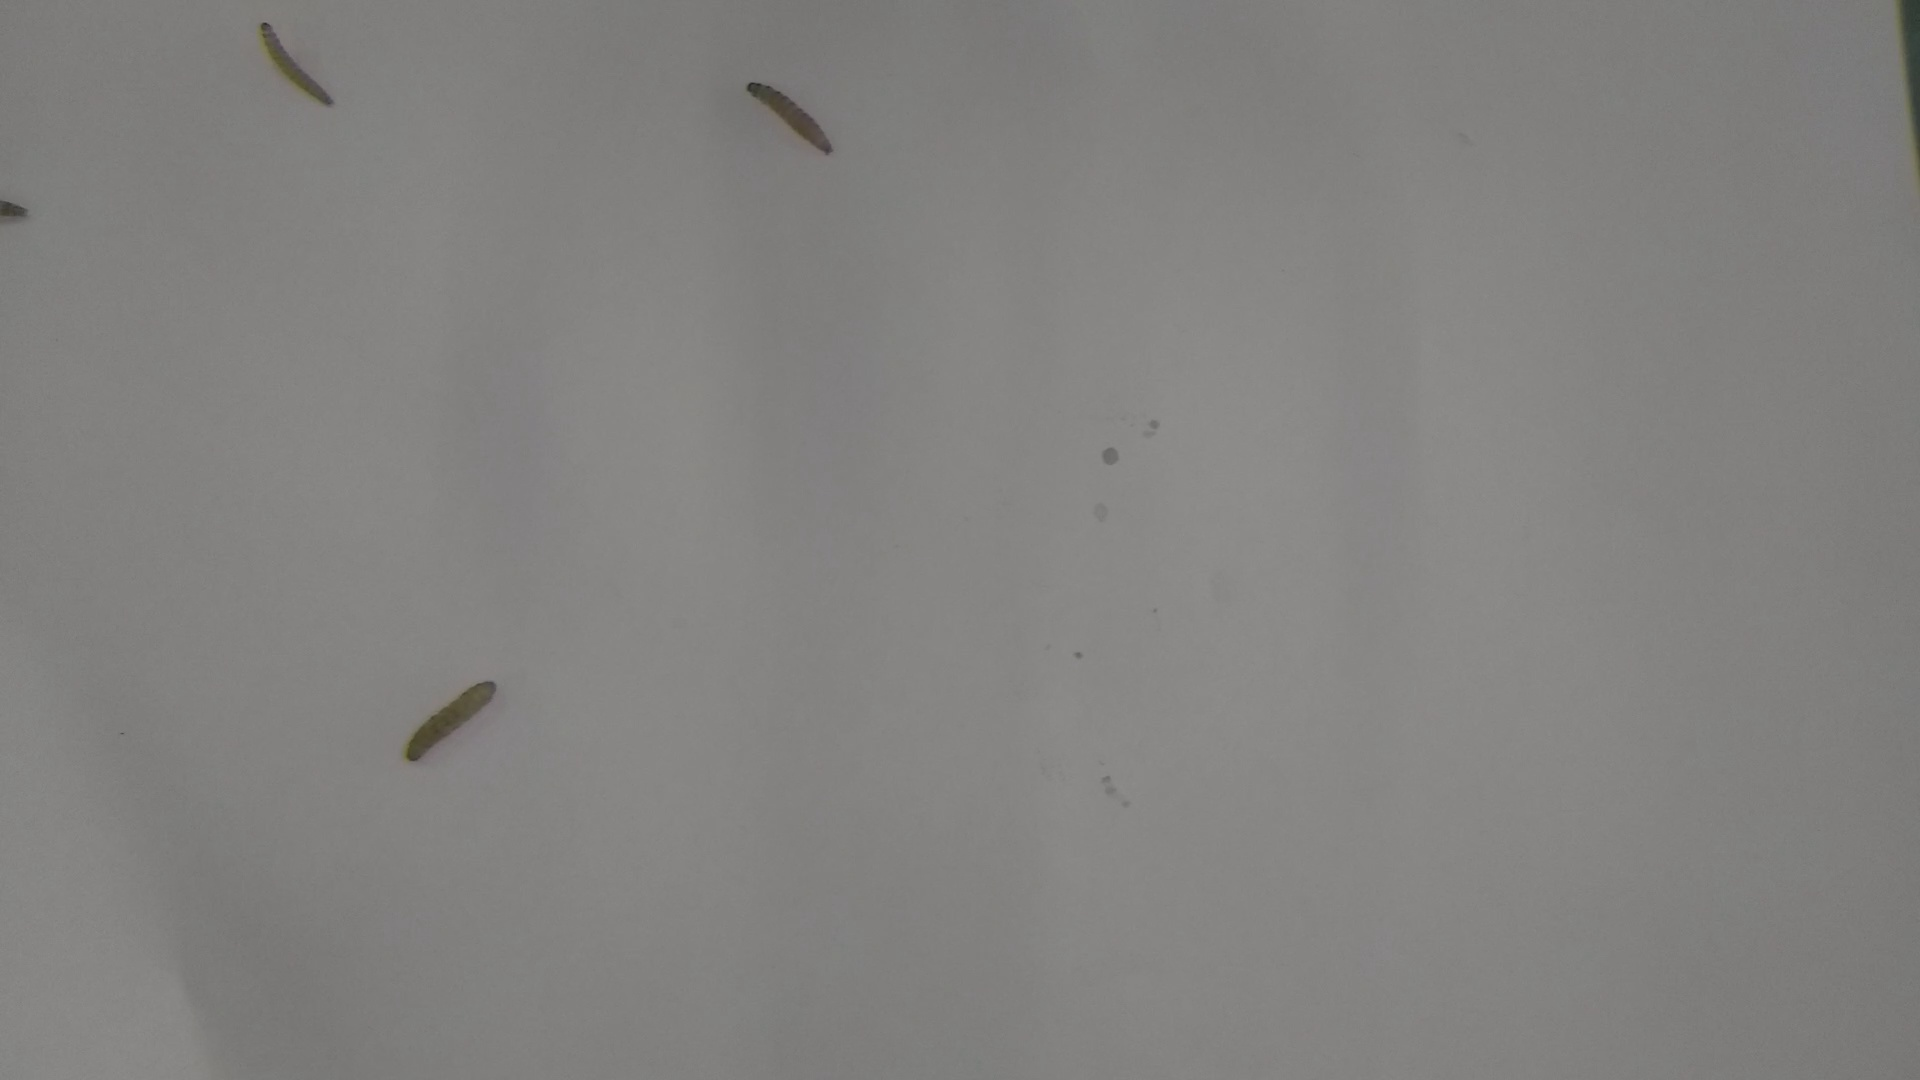efsb: (404, 673, 506, 767), (737, 79, 837, 161), (255, 15, 338, 109)
